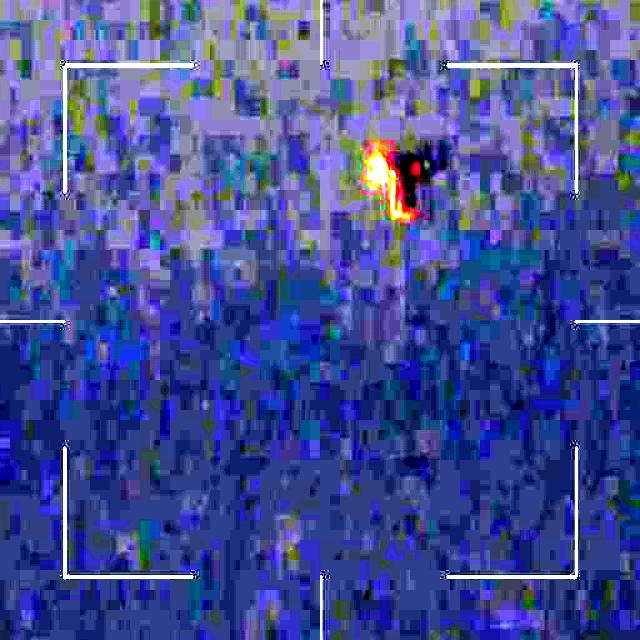bird: (365, 150, 458, 236)
